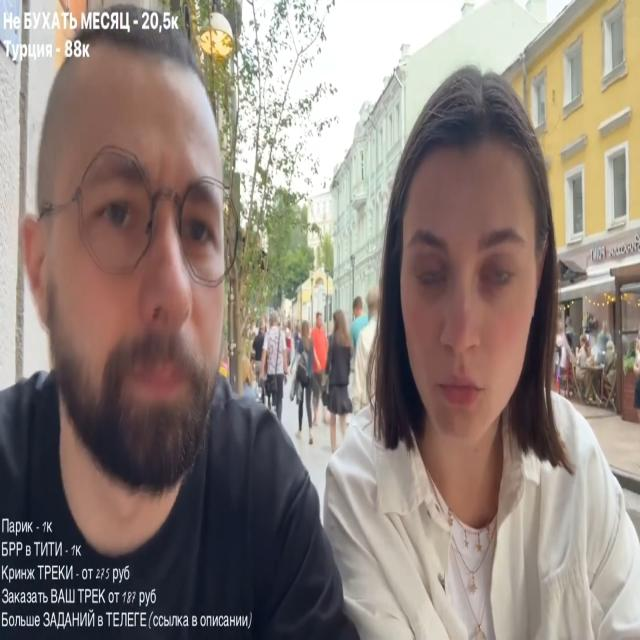Person: (0, 31, 365, 632), (304, 79, 636, 638), (323, 302, 354, 444), (260, 316, 292, 419)
